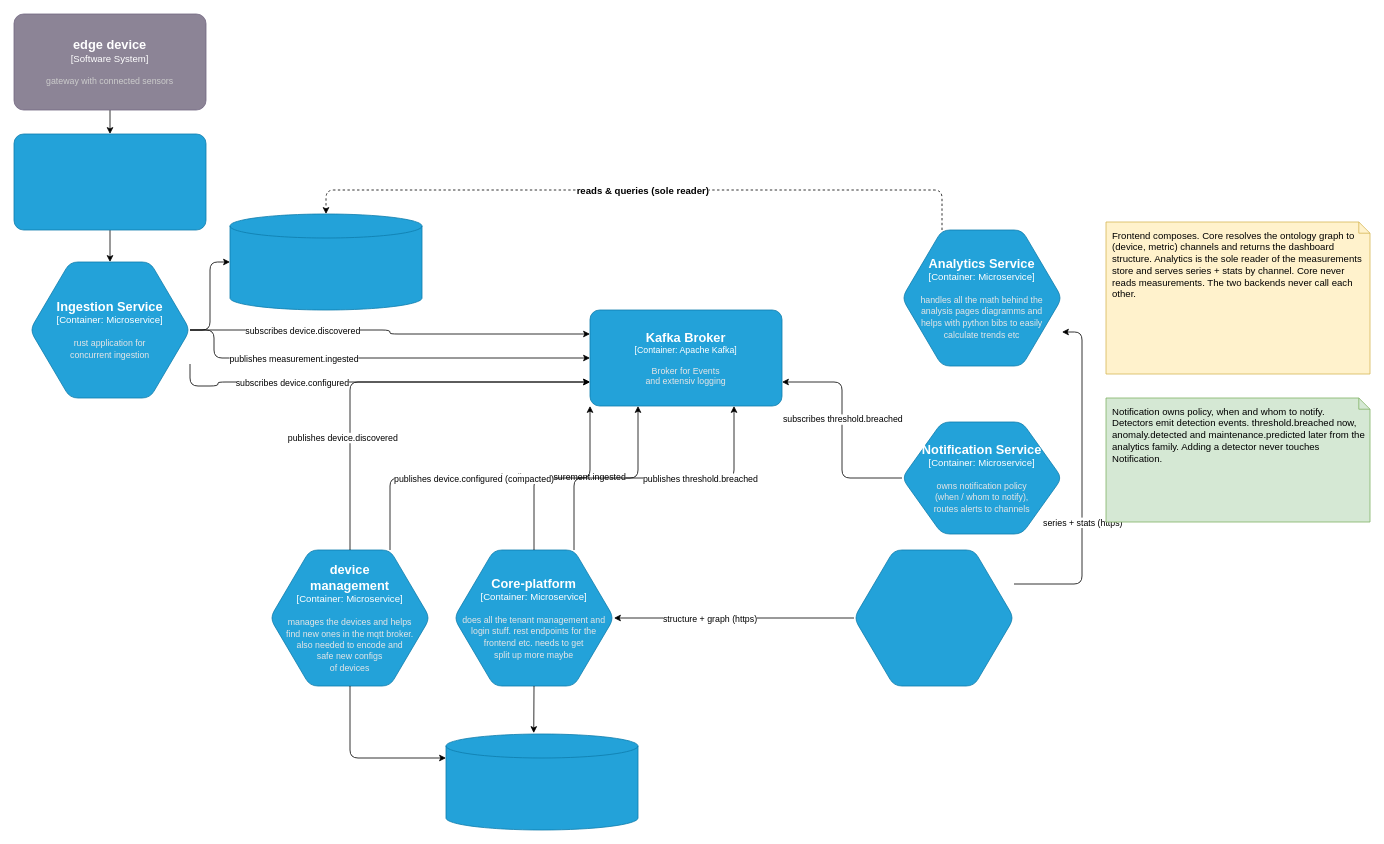
Some shapes in this 1384 by 844 pixel diagram are drawn without their labels. Here are the shapes that lost their labels. From the top down, the centre of each, then its label:
(x=109, y=181): Mosquitto Broker [Container: Mosquitto Service] Broker MQTT messages
(x=325, y=261): timescaleDB [Container: ] measurements store, ingestion writes / analytics reads
(x=933, y=617): Web-App [Container: Microservice] Nextjs app that handles the ui
(x=541, y=781): postgresDB [Container: ] postgres Database
